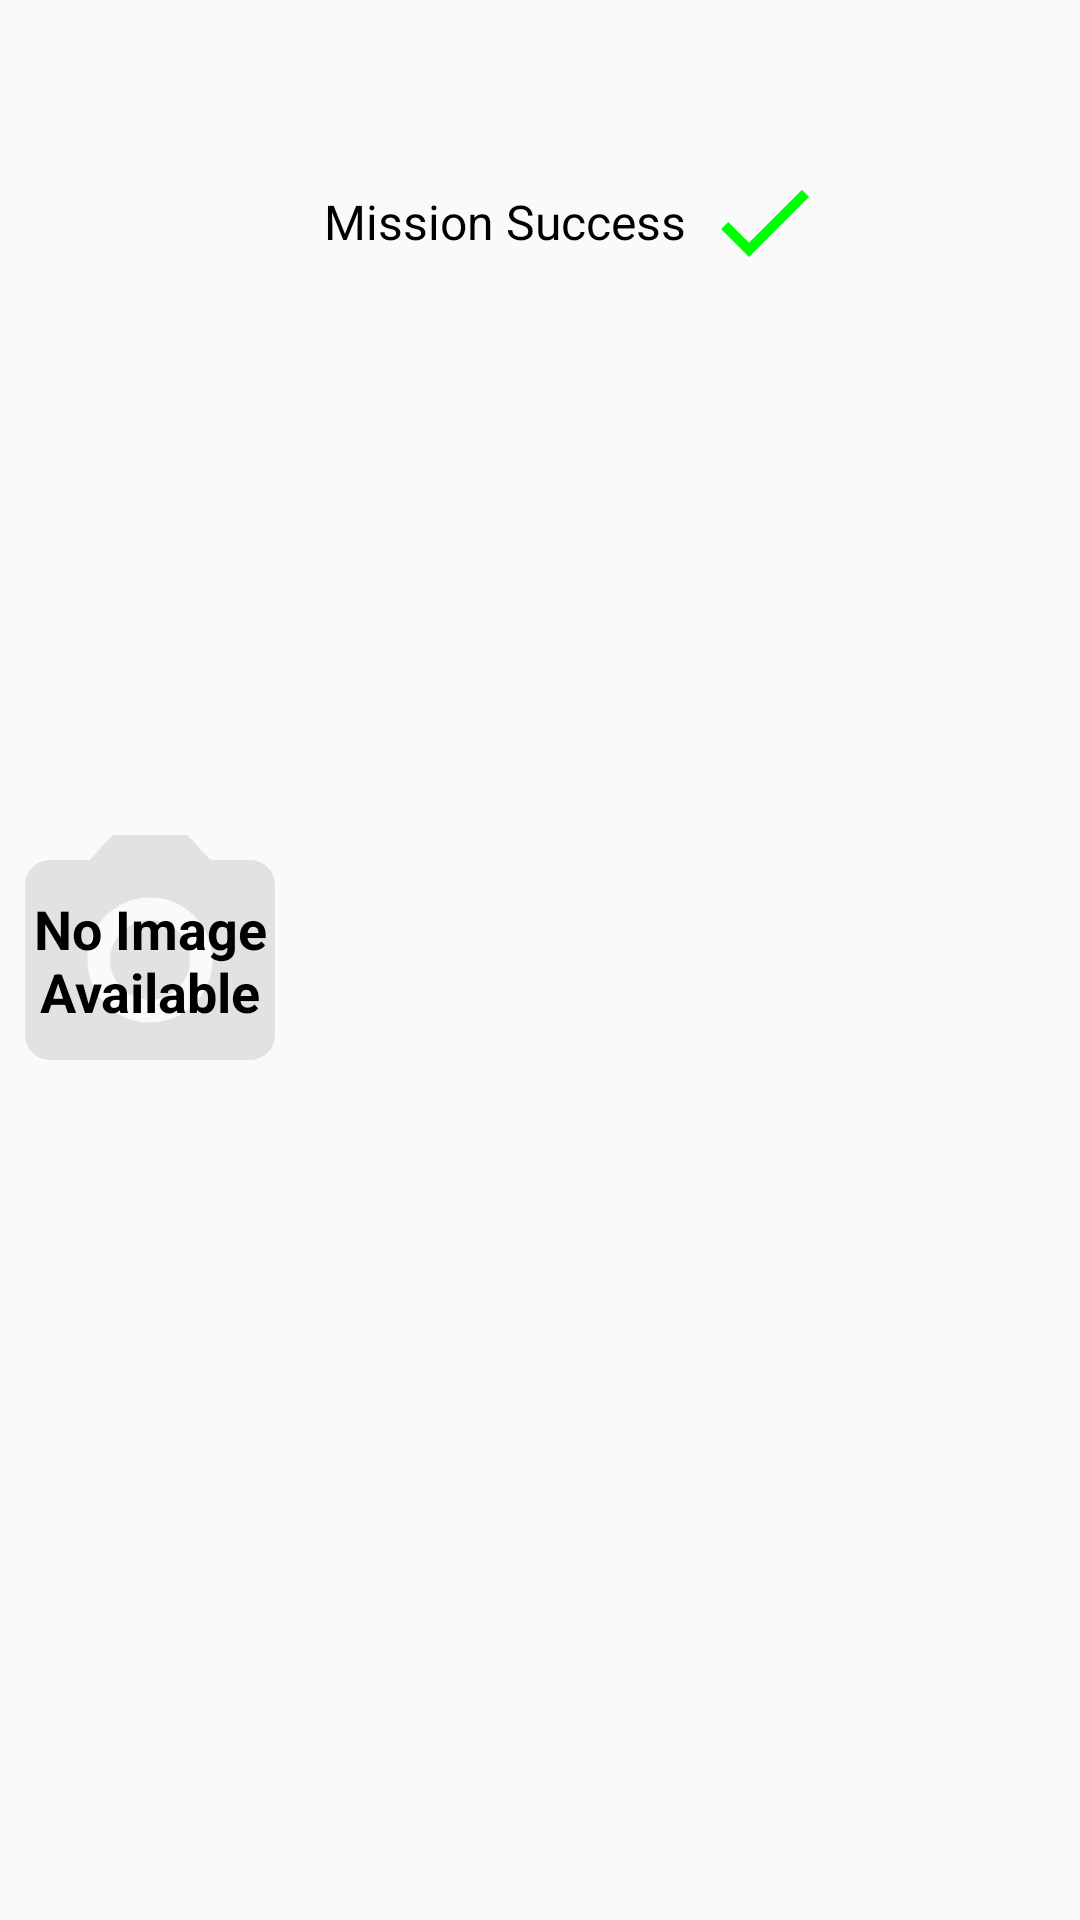

Icon click points for this 1080px×1920px phone screenshot, format point (x, y):
check: point (765, 223)
